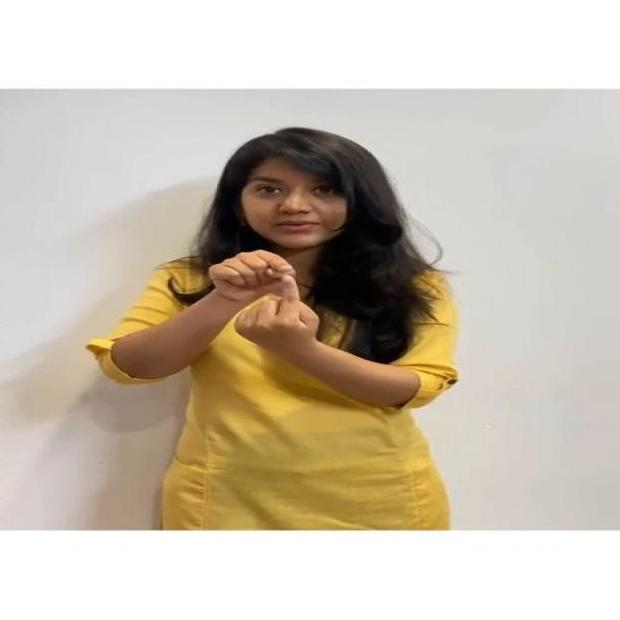H: (196, 246, 345, 365)
